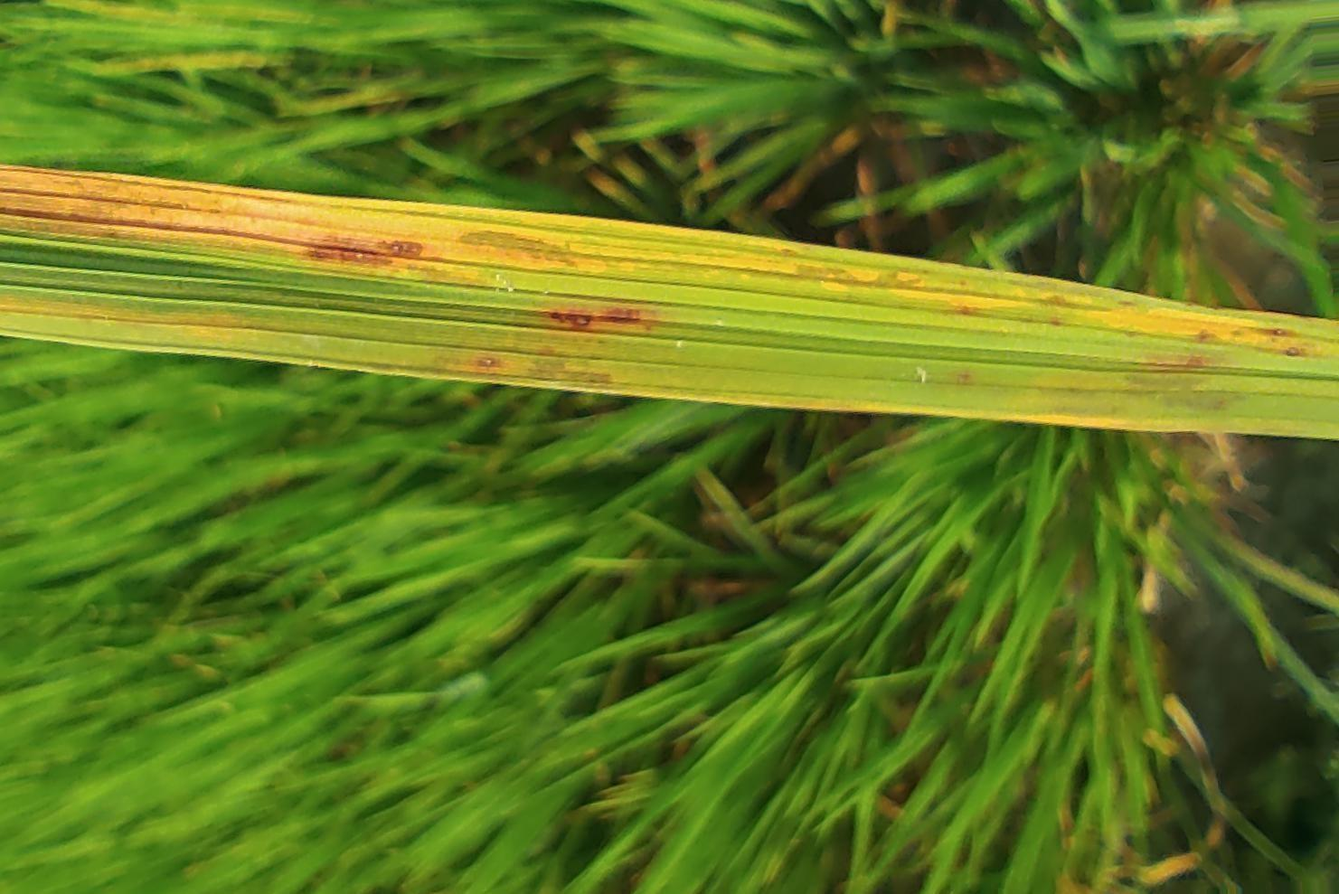LEAF: (0, 165, 1338, 438)
NBS: (306, 236, 465, 265), (548, 308, 643, 327), (1263, 327, 1302, 339), (955, 366, 975, 388), (1110, 299, 1144, 310), (478, 357, 500, 370), (1197, 328, 1212, 344), (1047, 315, 1062, 327), (1286, 347, 1304, 356), (964, 307, 975, 314)
